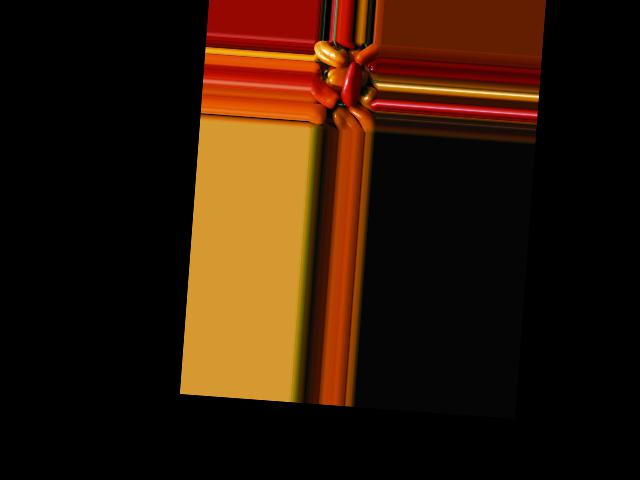bell_pepper: (313, 39, 346, 69)
